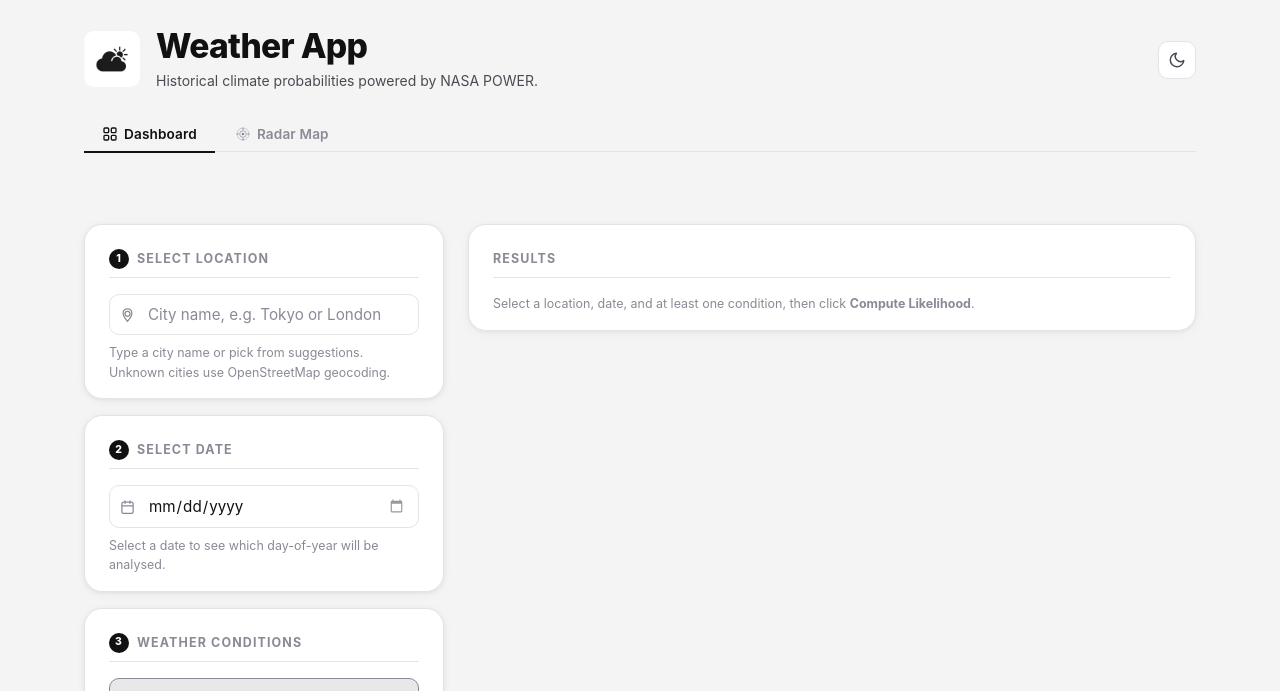
Test case: App › shows error message when geocoding fails
Type "xyz123" into the field named "location". click: (264, 315)
box: [109,294,419,335]
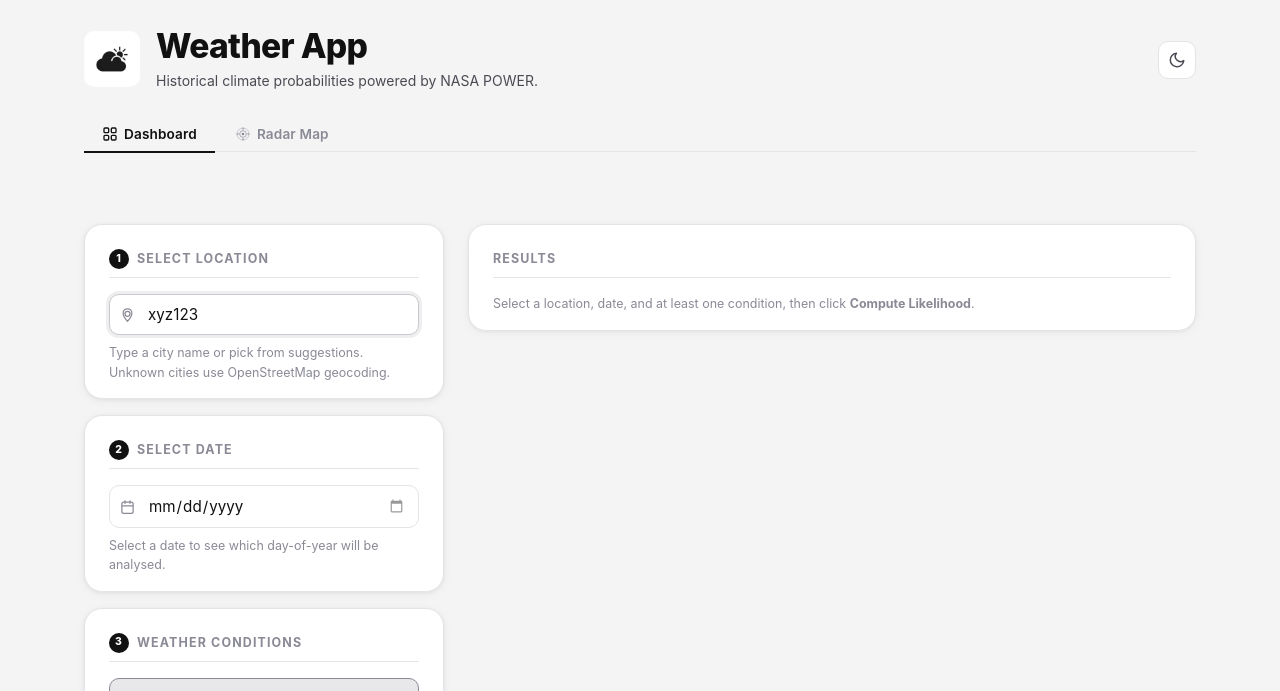
Type "2025-07-15" into the date field named "date". click: (264, 506)
box: [109,485,419,528]
(page scrolled)
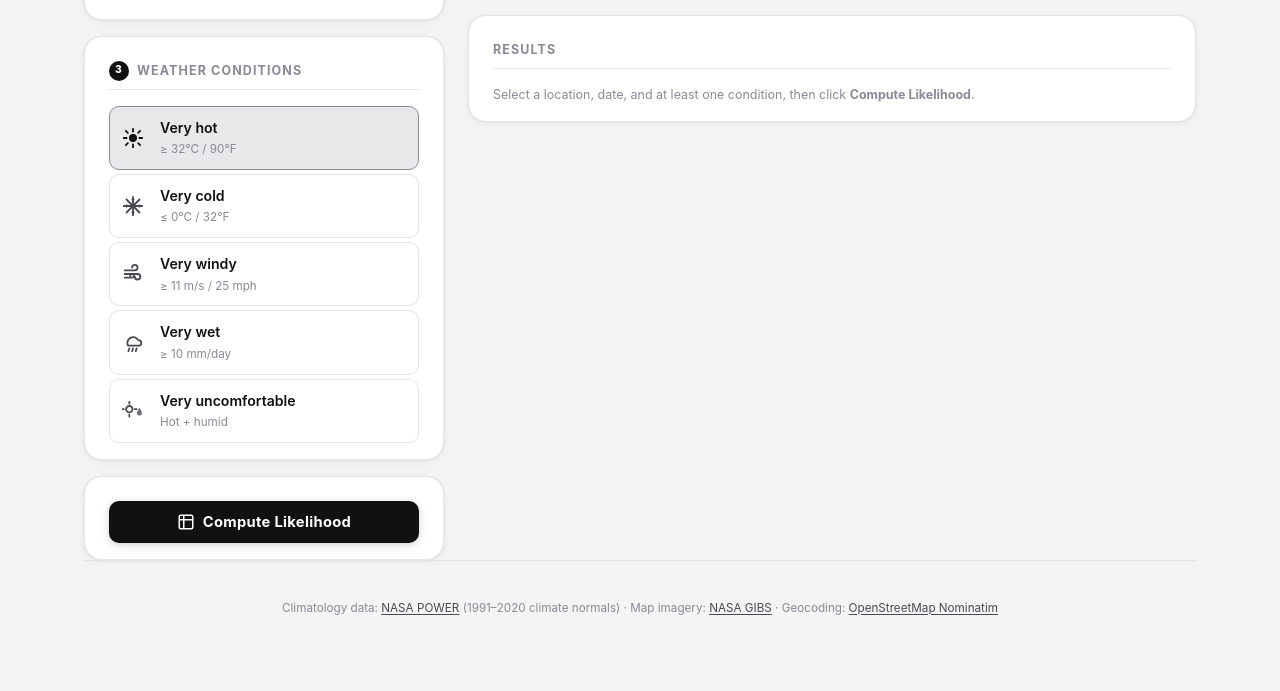
Click the button "Compute Likelihood". click: (264, 522)
box: [109,501,419,543]
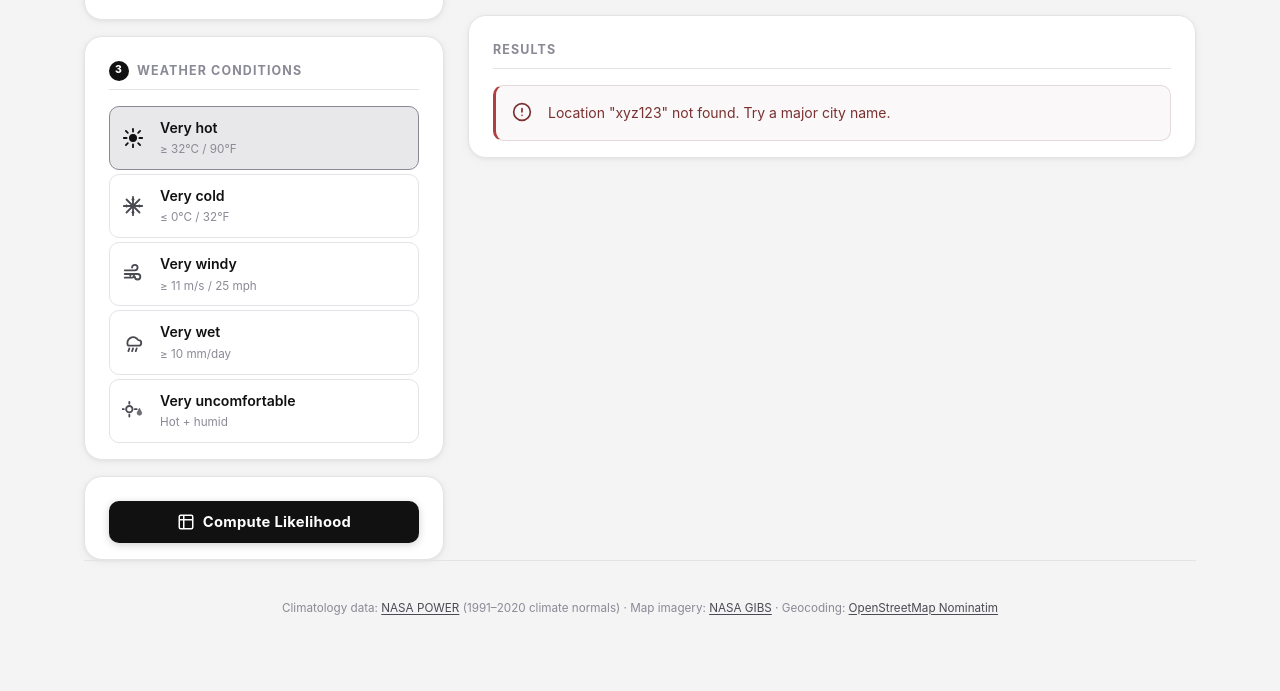
Result: the message "Location \"xyz123\" not found. Try a major city name." is shown at [493,85,1171,141]
Result: the message shows "not found" at [548,104,890,121]
